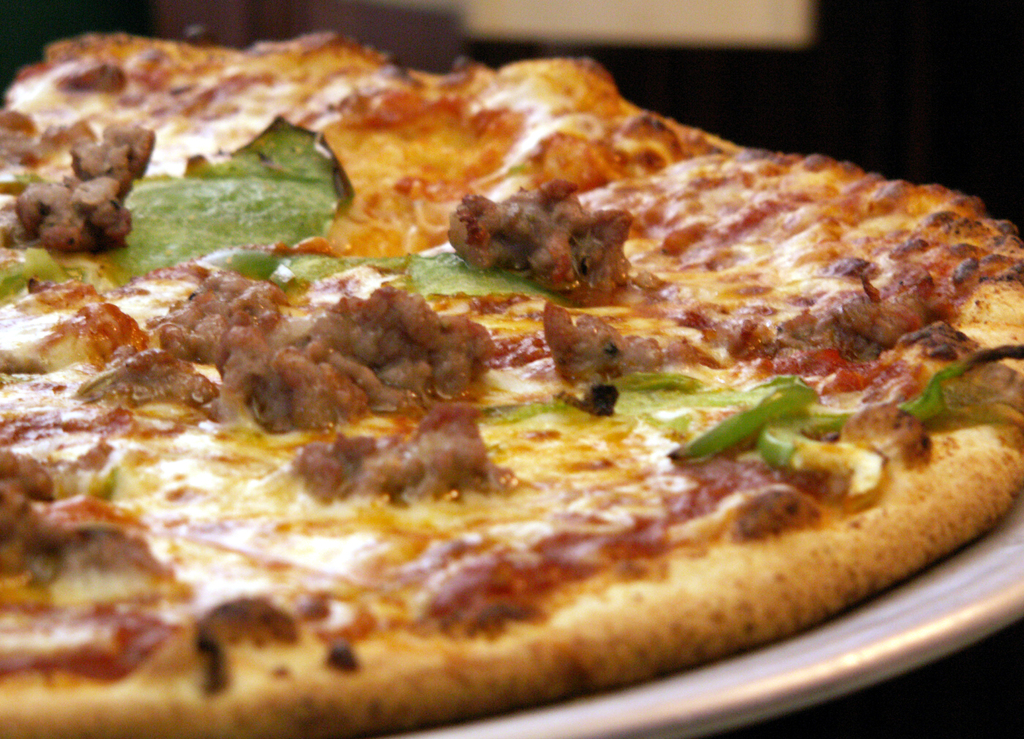Pizza: (0, 29, 1023, 736)
